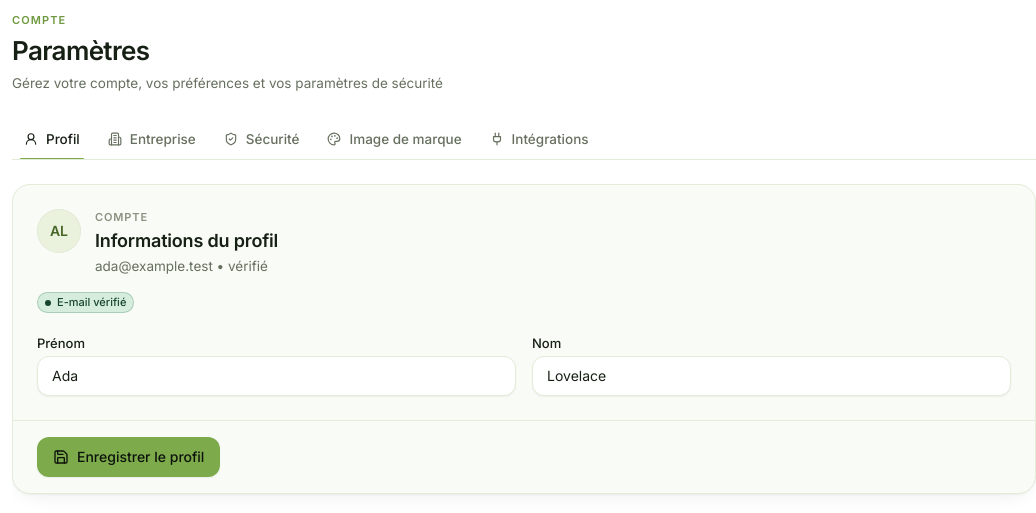
Test: settings page › explains that Google-only accounts have no password to change
Expected: the heading "Informations du profil" is shown, top-left (95, 230), bottom-right (278, 252)
Click the tab "Sécurité" at (262, 139), box top-left (212, 119), bottom-right (312, 159)
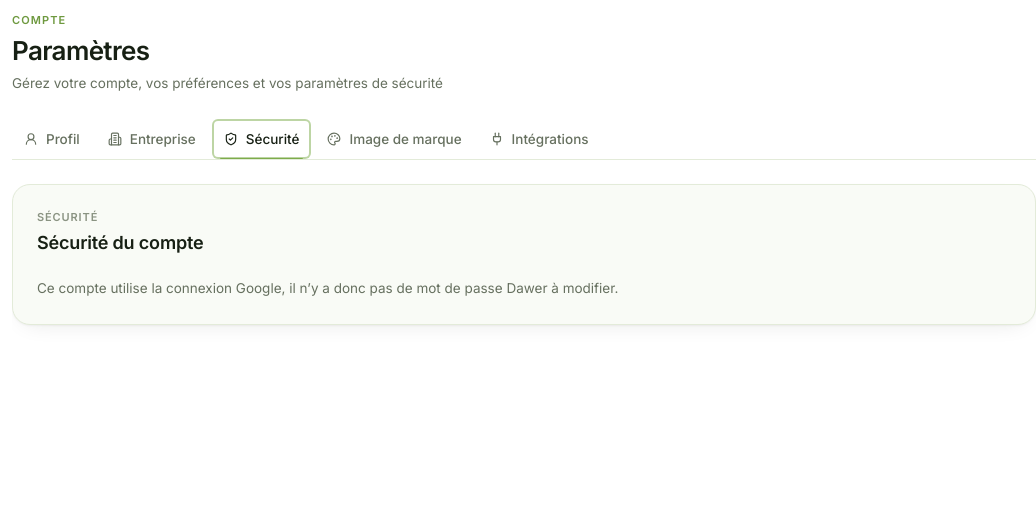
Expected: the text "utilise la connexion Google" is shown, top-left (37, 280), bottom-right (618, 296)
